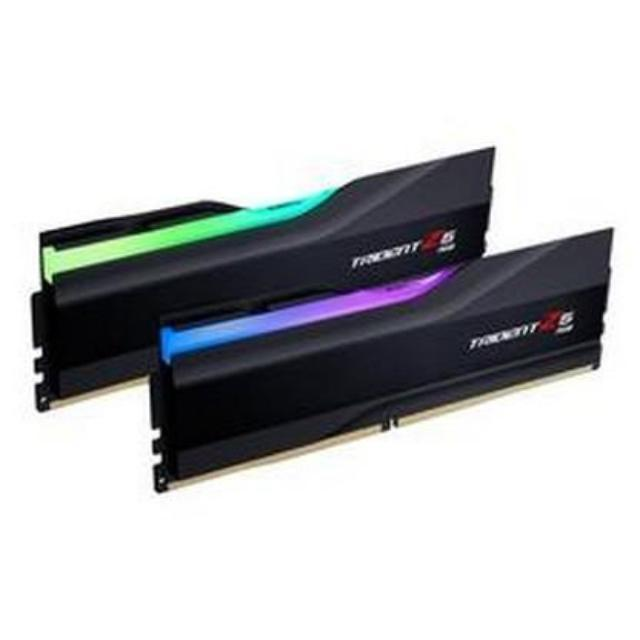RAM: (24, 138, 622, 498)
